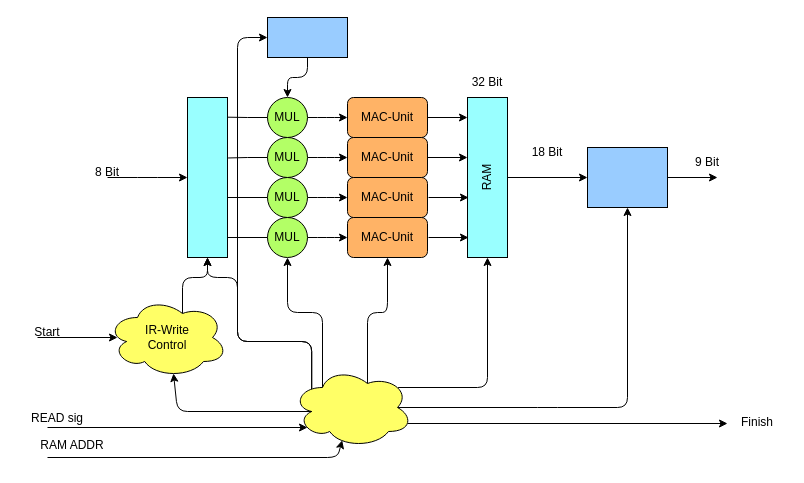
The diagram is 804 pixels wide and 483 high, and some of its shapes have lost their labels. Each missing label, with the box of its shape:
32 Input Registers a 8 Bit: (186, 96, 228, 258)
Control unit: (292, 366, 412, 448)
OUTPUT REGISTER 1x18: (586, 146, 668, 208)
ROM: (266, 16, 348, 58)
